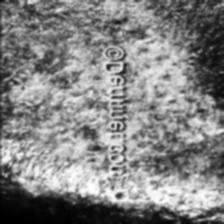Unclassified: (46, 113, 74, 141), (154, 207, 200, 224)
